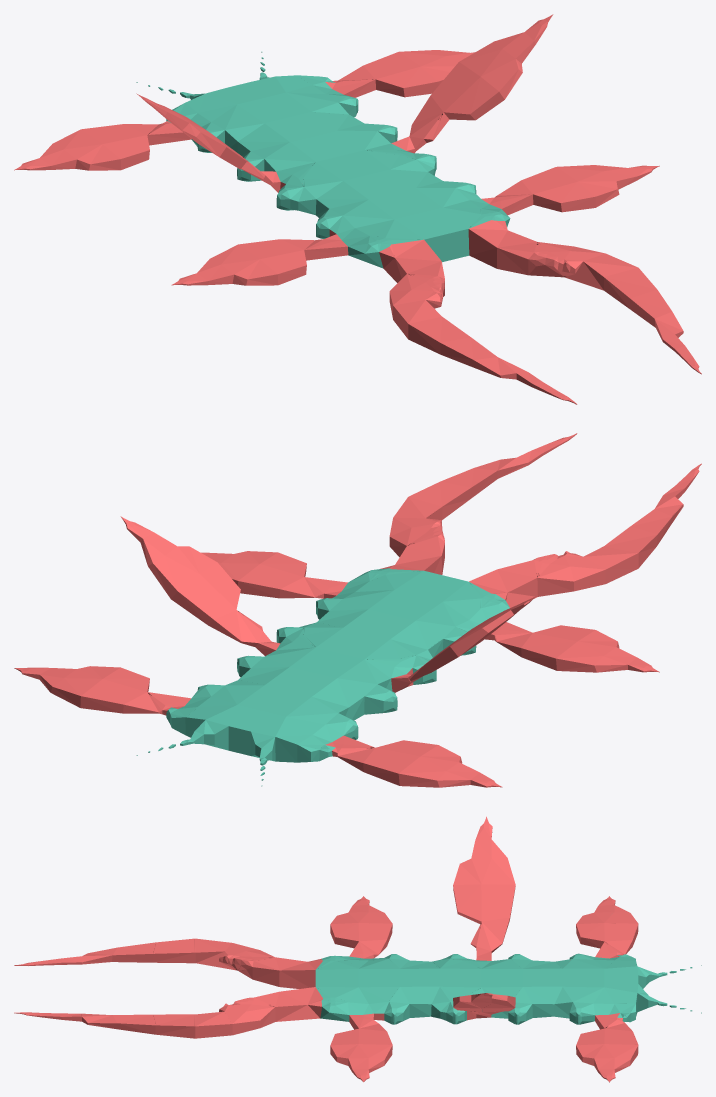
Rendered from likeSeaScorpion.obj.
The picture shows the model from 3 angles, top to bottom: view 1: azimuth 30°, elevation 25°; view 2: azimuth 150°, elevation 25°; view 3: azimuth 270°, elevation 25°; orthographic projection. The views are drawn at different scales.
Visible parts, largest first — view 1: 立方体; view 2: 立方体; view 3: 立方体.
Part boxes in pixels (x1=…): 立方体: x1=14, y1=14, x2=701, y2=404; 立方体: x1=14, y1=433, x2=701, y2=787; 立方体: x1=14, y1=816, x2=701, y2=1082.
Bounding box in the file's own units: 1.31 × 0.3525 × 2.04.
Materials: 1 (1 with a texture image).
